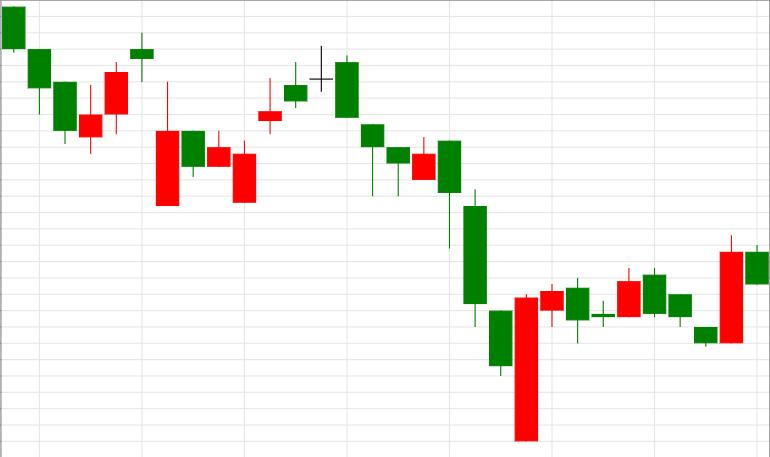bullish_engulfing_rise: (335, 57, 538, 442)
